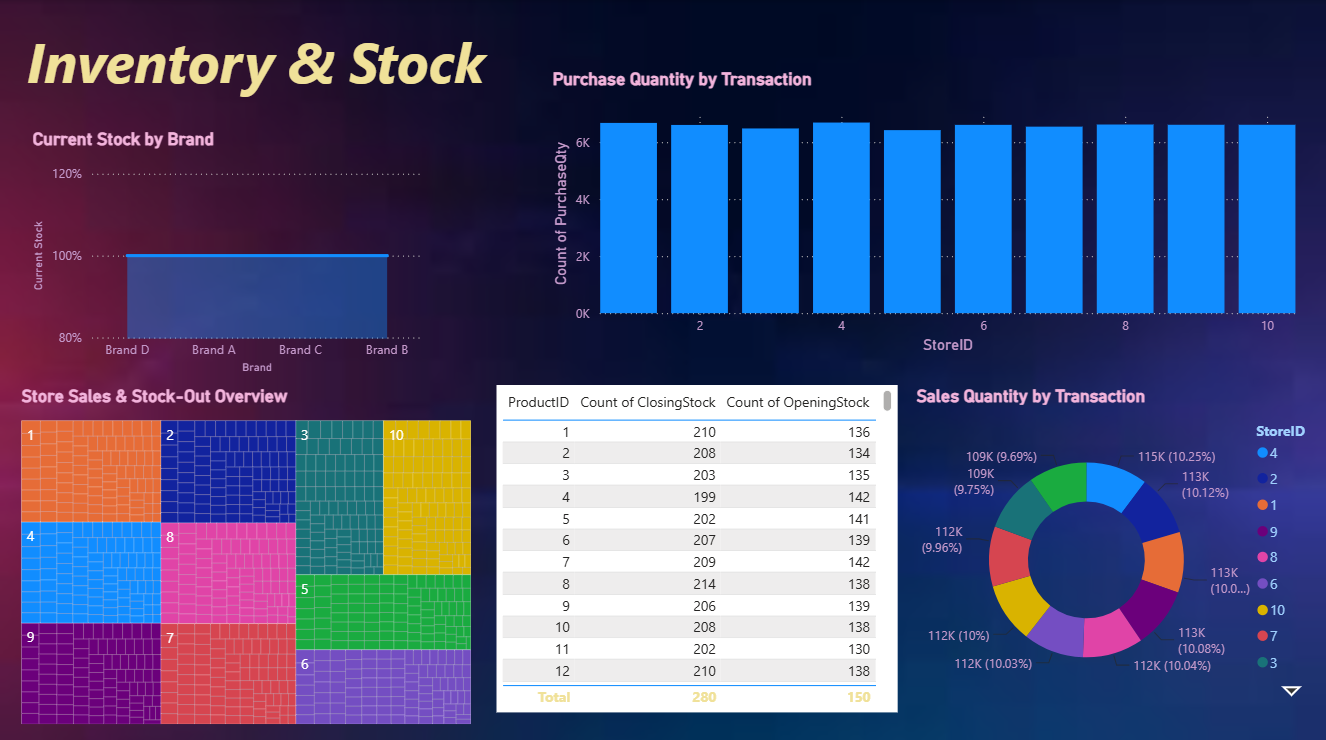

Layout of this report page (visuals, bound fields, positions):
{"tool":"powerbi","page":{"name":"Inventory & Stock","canvas":[1280,720],"ordinal":3},"visuals":[{"type":"hundredPercentStackedAreaChart","fields":{"Category":["Product_Dim.Brand"],"Y":["Measures (2).Current Stock"]},"box":[32.7,123.7,375.5,236.1],"z":0},{"type":"tableEx","fields":{"Values":["Product_Dim.ProductID","Count(Inventory_Fact.ClosingStock)","Count(Inventory_Fact.OpeningStock)"]},"box":[480.7,371.2,386.8,315.7],"z":1000},{"type":"treemap","title":"Store Sales & Stock-Out Overview","fields":{"Details":["Inventory_Fact.Date"],"Group":["Inventory_Fact.StoreID"],"Values":["Sum(Inventory_Fact.SalesQty)"]},"box":[21.3,371.2,433.8,327.1],"z":2000},{"type":"lineStackedColumnComboChart","title":"Purchase Quantity by Transaction","fields":{"Category":["Inventory_Fact.StoreID"],"Y":["CountNonNull(Inventory_Fact.PurchaseQty)"]},"box":[534.8,66.8,716.8,274.5],"z":2001},{"type":"donutChart","title":"Sales Quantity by Transaction","fields":{"Category":["Inventory_Fact.StoreID"],"Y":["Sum(Inventory_Fact.SalesQty)"]},"box":[886,371.2,394,302.9],"z":2002},{"type":"textbox","box":[21.3,18.5,502,93.9],"z":2003}]}

Visuals, with their boxes in screenshot pixels (x1, y1, x2, y2), scaled from the page's 1280x720 canvas onto the 1326x740 screenshot:
hundredPercentStackedAreaChart - Product_Dim.Brand x Measures (2).Current Stock: bbox=(34, 127, 423, 370)
tableEx - Product_Dim.ProductID x Count(Inventory_Fact.ClosingStock): bbox=(498, 382, 899, 706)
"Store Sales & Stock-Out Overview" treemap: bbox=(22, 382, 471, 718)
"Purchase Quantity by Transaction" lineStackedColumnComboChart: bbox=(554, 69, 1297, 351)
"Sales Quantity by Transaction" donutChart: bbox=(918, 382, 1325, 693)
textbox: bbox=(22, 19, 542, 116)
